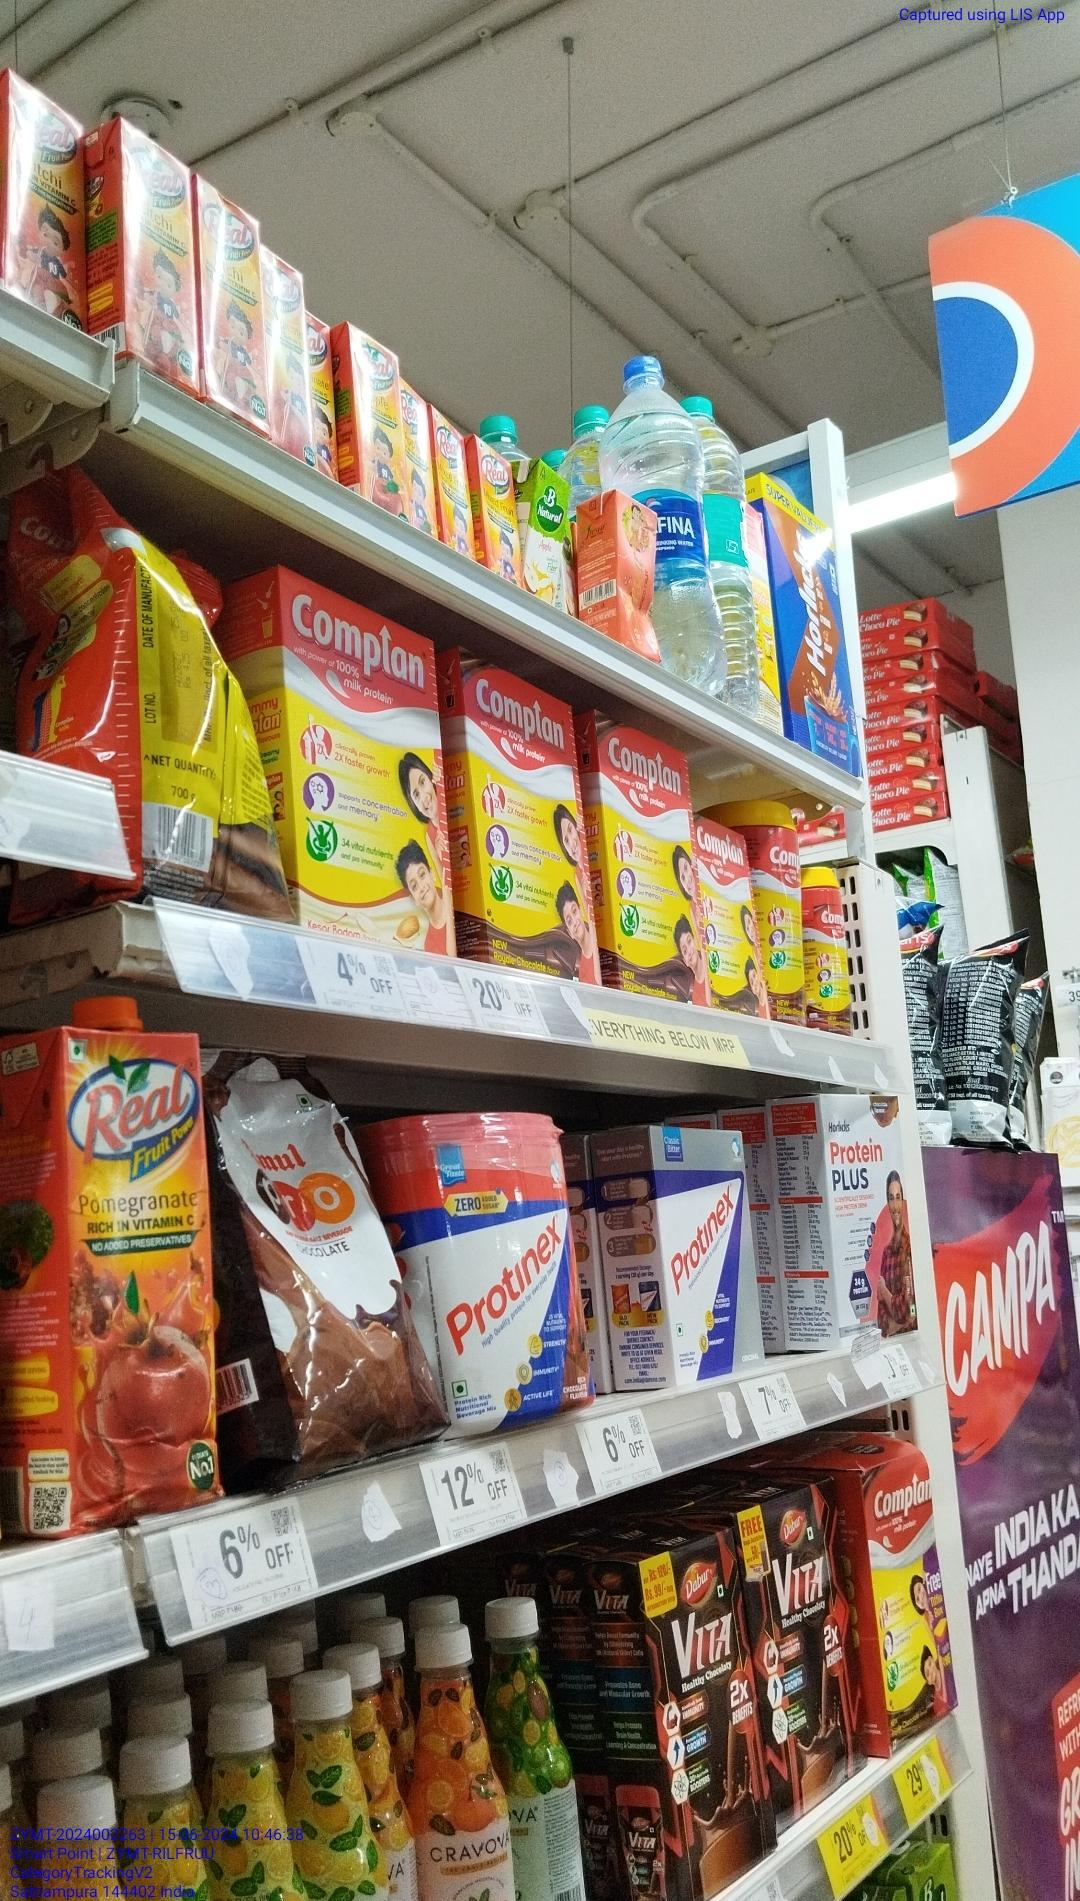COMPLAN_CHOCOLATE_500_GMS_PACK: (471, 684, 585, 969), (601, 738, 696, 999)
COMPLAN_KESAR_BADAM_500_GMS_PACK: (294, 599, 447, 953)
PROTINEX_CHOCOLATE_400_G_JAR: (423, 1111, 593, 1419)
